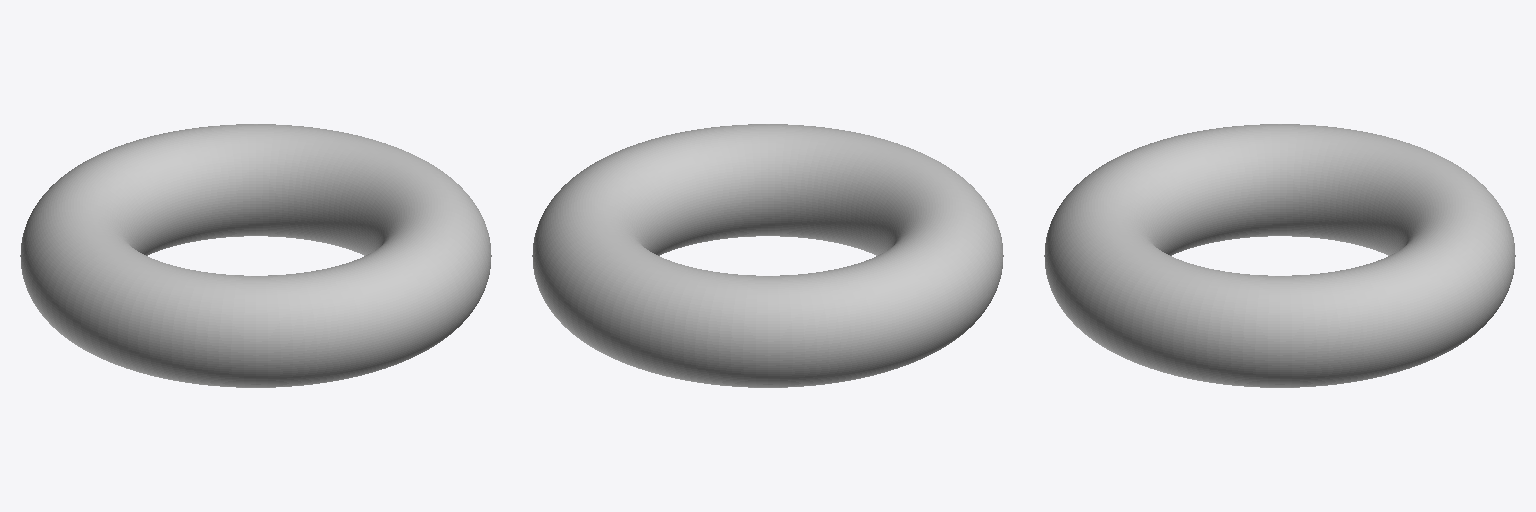
File: donut.obj
The picture shows the model from 3 angles: view 1: azimuth 30°, elevation 25°; view 2: azimuth 150°, elevation 25°; view 3: azimuth 270°, elevation 25°; orthographic projection.
Bounding box in the file's own units: 4.17 × 0.9945 × 4.17.